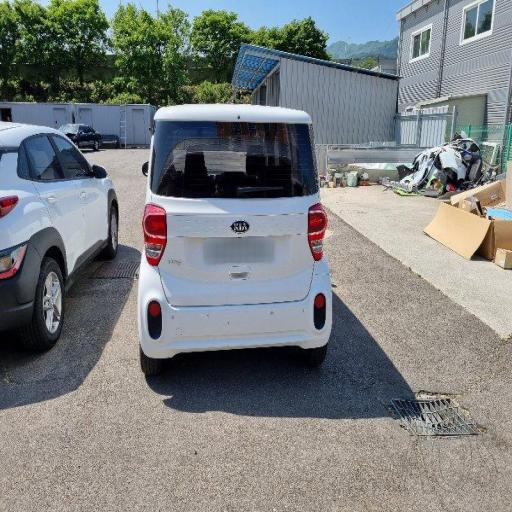scratch: (160, 214, 317, 352)
